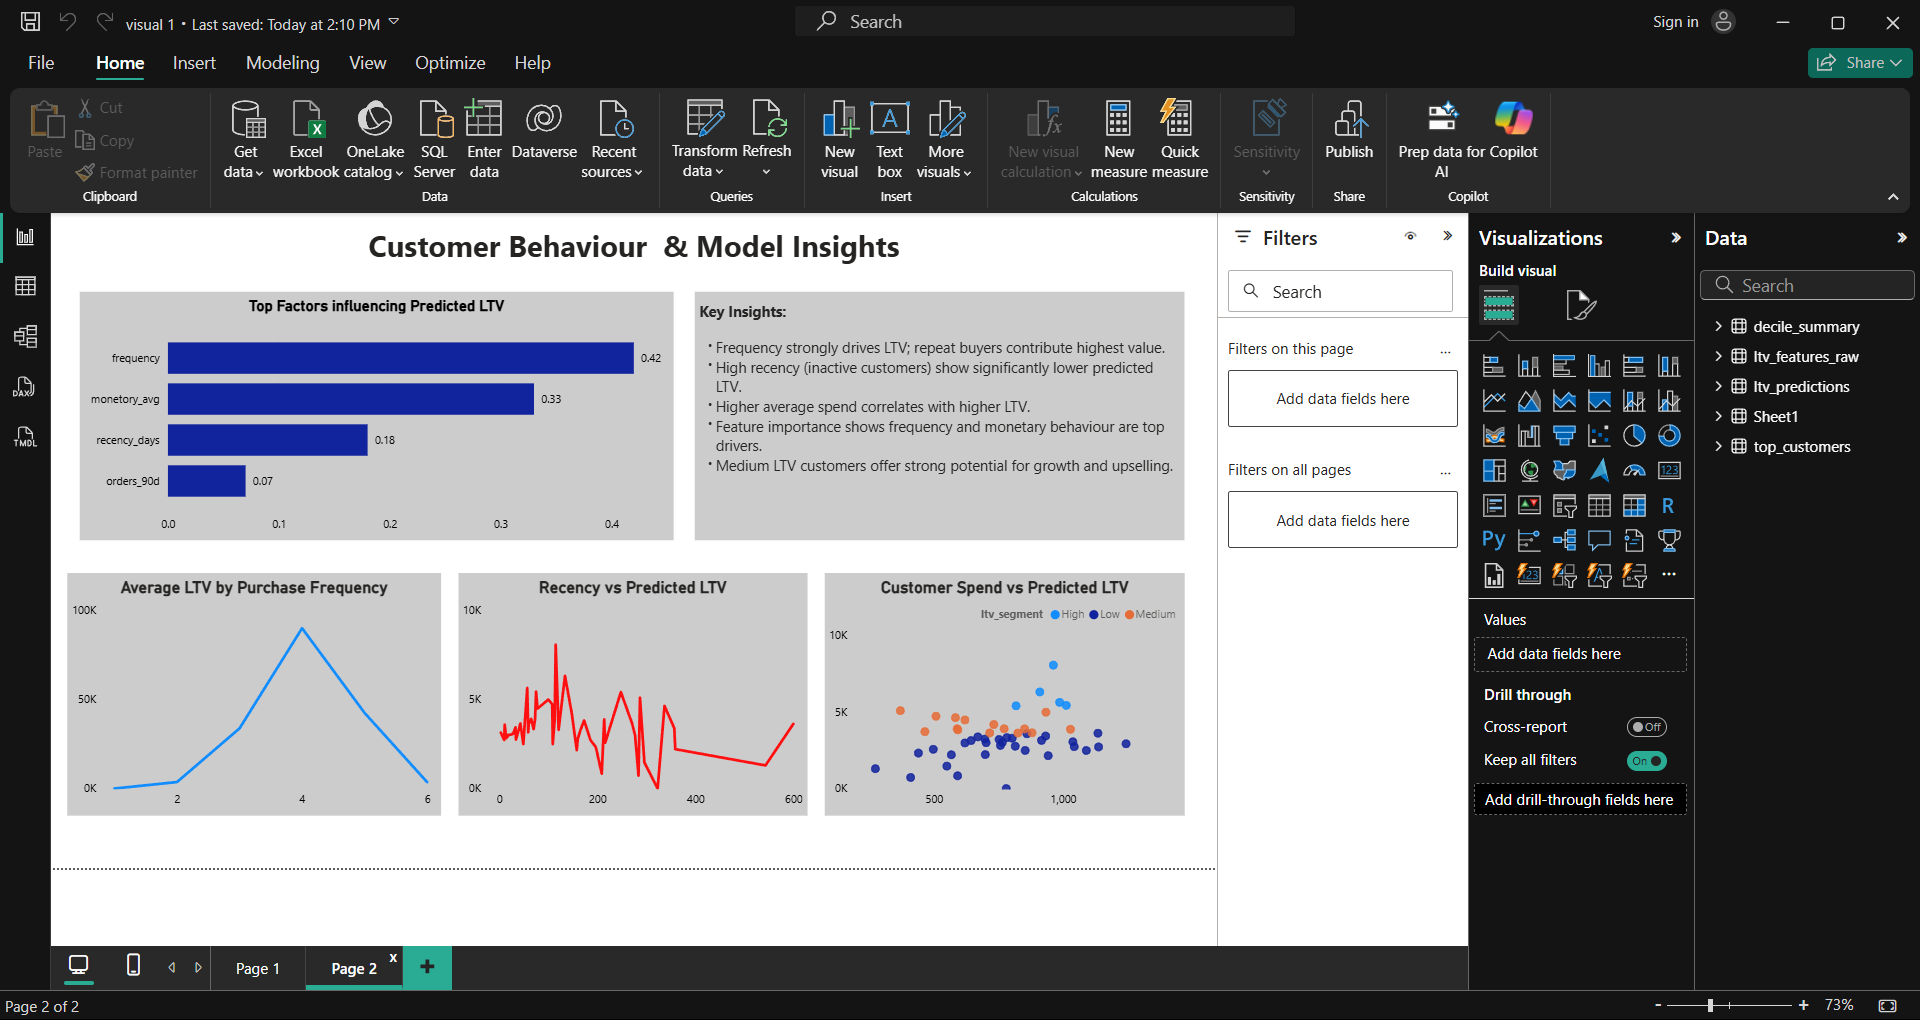

Layout of this report page (visuals, bound fields, positions):
{"tool":"powerbi","page":{"name":"Page 2","canvas":[1280,720],"ordinal":1},"visuals":[{"type":"lineChart","title":"Average LTV by Purchase Frequency","fields":{"Category":["ltv_features_raw.frequency"],"Y":["Sum(ltv_predictions.predicted_ltv_12m)"]},"box":[17.8,395.2,410.3,266.2],"z":0},{"type":"lineChart","title":"Recency vs Predicted LTV","fields":{"Category":["ltv_features_raw.recencey_days"],"Y":["Avg(ltv_predictions.predicted_ltv_12m)"]},"box":[447.3,395.2,382.8,266.2],"z":1000},{"type":"scatterChart","title":"Customer Spend vs Predicted LTV","fields":{"X":["ltv_features_raw.monetory_avg"],"Y":["ltv_predictions.predicted_ltv_12m"],"Series":["ltv_predictions.ltv_segment"]},"box":[849.4,395.2,395.2,266.2],"z":2000},{"type":"clusteredBarChart","title":"Top Factors influencing Predicted LTV","fields":{"Y":["Sum(Sheet1.importance)"],"Category":["Sheet1.feature"]},"box":[31.6,86.4,651.8,273.1],"z":3000},{"type":"textbox","box":[706.7,86.4,537.9,273.1],"z":4000},{"type":"textbox","box":[0,9.6,1280.3,57.6],"z":5000}]}

Visuals, with their boxes on the page's 1280x720 design canvas (x1, y1, x2, y2). These are canvas units, not pixel positions in the 1920x1020 screenshot, which may show the page scaled, cropped or inside an application window:
"Average LTV by Purchase Frequency" lineChart: bbox=[18, 395, 428, 661]
"Recency vs Predicted LTV" lineChart: bbox=[447, 395, 830, 661]
"Customer Spend vs Predicted LTV" scatterChart: bbox=[849, 395, 1245, 661]
"Top Factors influencing Predicted LTV" clusteredBarChart: bbox=[32, 86, 683, 360]
textbox: bbox=[707, 86, 1245, 360]
textbox: bbox=[0, 10, 1280, 67]
